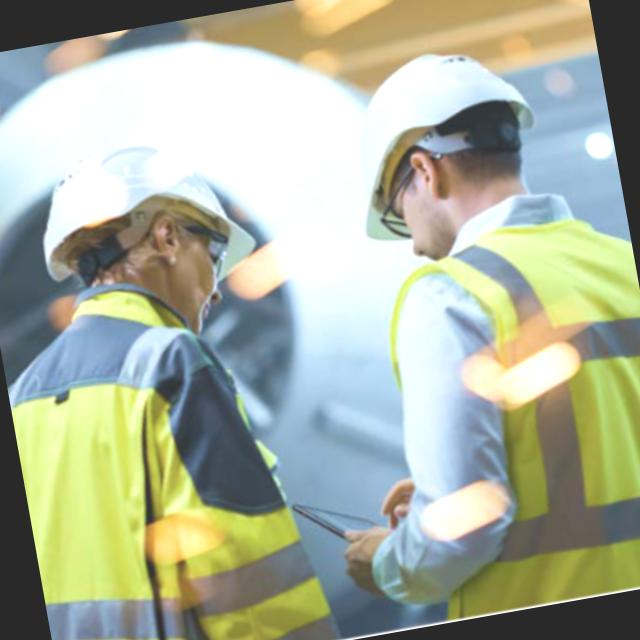helmet: (30, 117, 262, 303), (340, 32, 550, 201)
vest: (0, 271, 326, 640), (385, 209, 640, 622)
